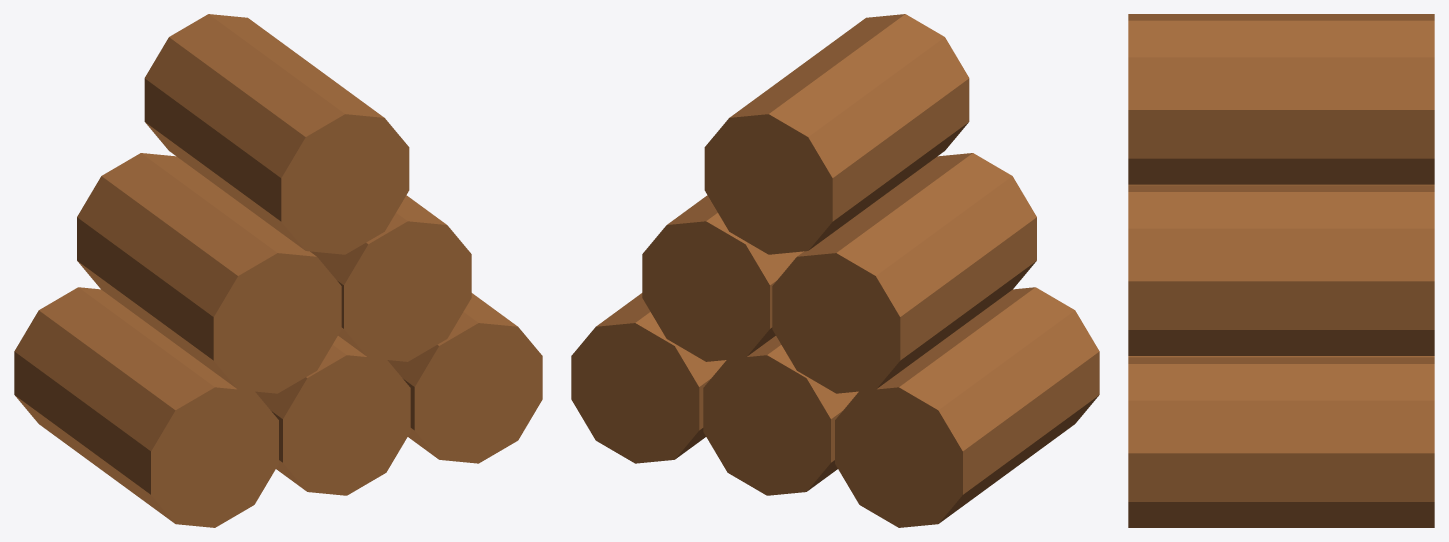
Rendered from Wood.fbx.
3 renders of one model, left to right at view 1: azimuth 30°, elevation 25°; view 2: azimuth 150°, elevation 25°; view 3: azimuth 270°, elevation 25°, orthographic. The views are drawn at different scales.
Parts seen in each view (by area): view 1: Wood; view 2: Wood; view 3: Wood.
Boxes of the visible parts, x1,y1,x2,y2 form: Wood: [14, 14, 542, 527]; Wood: [571, 14, 1099, 527]; Wood: [1128, 14, 1434, 527].
Bounding box in the file's own units: 39.65 × 36.98 × 23.99.
